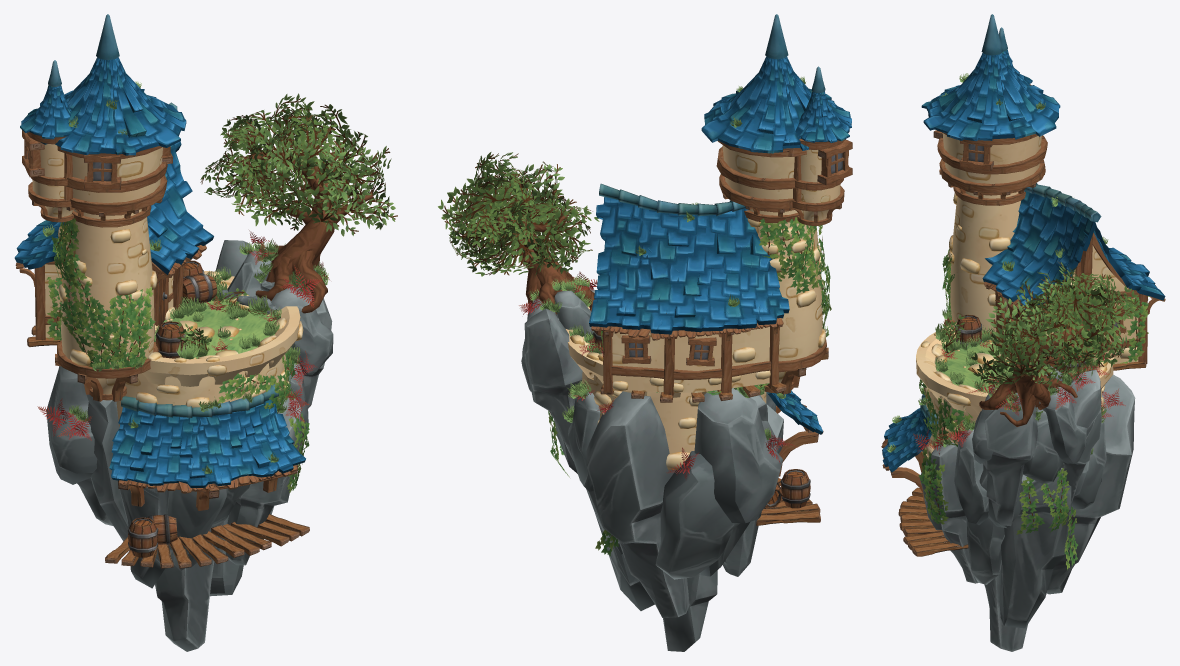
The model's file is stylised_sky_player_home_dioroma-transformed.glb.
3 views of the same model, side by side, from view 1: azimuth 30°, elevation 25°; view 2: azimuth 150°, elevation 25°; view 3: azimuth 270°, elevation 25° (orthographic). The views are drawn at different scales.
Parts seen in each view (by area): view 1: roof_roof_0, rocks_Material #413_0, leaves_op branches_0, base tower_wall_0, roof_wooden skel no op_0, ferns_Material #650_0, tree trunk_bark_0, door_door + barrels_0, grass floor_grass_0; view 2: rocks_Material #413_0, roof_roof_0, roof_wooden skel no op_0, base tower_wall_0, leaves_op branches_0, ferns_Material #650_0, tree trunk_bark_0, door_door + barrels_0; view 3: rocks_Material #413_0, roof_roof_0, leaves_op branches_0, base tower_wall_0, roof_wooden skel no op_0, ferns_Material #650_0, tree trunk_bark_0, grass floor_grass_0, door_door + barrels_0.
Boxes of the visible parts, x1,y1,x2,y2 form: roof_roof_0: (14, 57, 305, 487); rocks_Material #413_0: (46, 240, 333, 651); leaves_op branches_0: (42, 81, 397, 473); base tower_wall_0: (32, 144, 303, 427); roof_wooden skel no op_0: (15, 14, 309, 568); ferns_Material #650_0: (37, 218, 329, 492); tree trunk_bark_0: (240, 150, 372, 313); door_door + barrels_0: (28, 153, 217, 557); grass floor_grass_0: (155, 297, 276, 358); rocks_Material #413_0: (521, 288, 783, 651); roof_roof_0: (589, 56, 851, 434); roof_wooden skel no op_0: (591, 14, 852, 525); base tower_wall_0: (566, 145, 840, 469); leaves_op branches_0: (438, 77, 831, 439); ferns_Material #650_0: (519, 217, 831, 556); tree trunk_bark_0: (489, 189, 594, 314); door_door + barrels_0: (593, 153, 842, 508); rocks_Material #413_0: (919, 366, 1135, 651); roof_roof_0: (882, 50, 1165, 472); leaves_op branches_0: (886, 73, 1147, 454); base tower_wall_0: (916, 133, 1138, 459); roof_wooden skel no op_0: (881, 14, 1165, 556); ferns_Material #650_0: (913, 249, 1149, 569); tree trunk_bark_0: (979, 284, 1084, 426); grass floor_grass_0: (935, 342, 1018, 392); door_door + barrels_0: (955, 144, 1119, 374).
Size of the model in its own units: 179 by 298 by 129.
10 materials, 10 textured.
